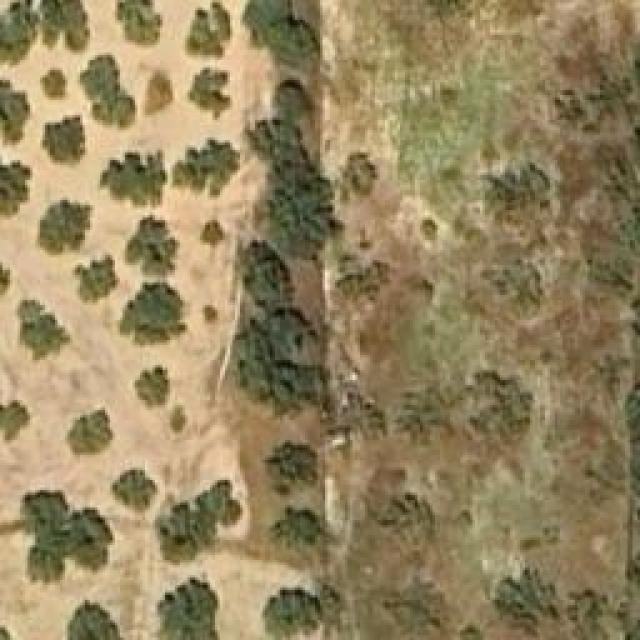Tree: (238, 313, 327, 416), (20, 490, 113, 585), (155, 480, 240, 565), (263, 170, 336, 255), (465, 374, 532, 452), (483, 165, 556, 235), (75, 52, 138, 130), (173, 138, 238, 201), (120, 283, 185, 346), (98, 152, 168, 210), (160, 572, 218, 640), (385, 572, 448, 630), (495, 570, 555, 630), (270, 507, 330, 565), (15, 300, 70, 363), (242, 243, 290, 313), (483, 258, 543, 313), (398, 385, 453, 445), (32, 0, 90, 55), (128, 217, 181, 275), (263, 443, 318, 496), (380, 490, 433, 545), (185, 0, 233, 60), (265, 588, 320, 638), (64, 410, 115, 463), (0, 0, 38, 70), (185, 68, 233, 121), (0, 75, 32, 152), (40, 118, 88, 168), (40, 202, 90, 250), (115, 0, 163, 48), (270, 20, 318, 68), (67, 602, 125, 640), (75, 252, 118, 300), (0, 157, 32, 212), (248, 0, 293, 35), (275, 78, 310, 123), (113, 470, 156, 505), (348, 153, 381, 196), (0, 399, 32, 442), (135, 365, 168, 405), (145, 73, 173, 116), (38, 68, 68, 101), (418, 218, 443, 243), (203, 220, 226, 245), (0, 615, 18, 640)
